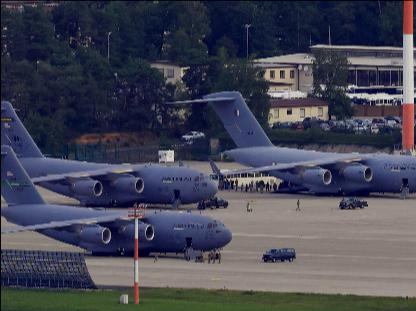C2: (163, 89, 415, 200), (0, 144, 232, 260), (0, 100, 218, 210)
